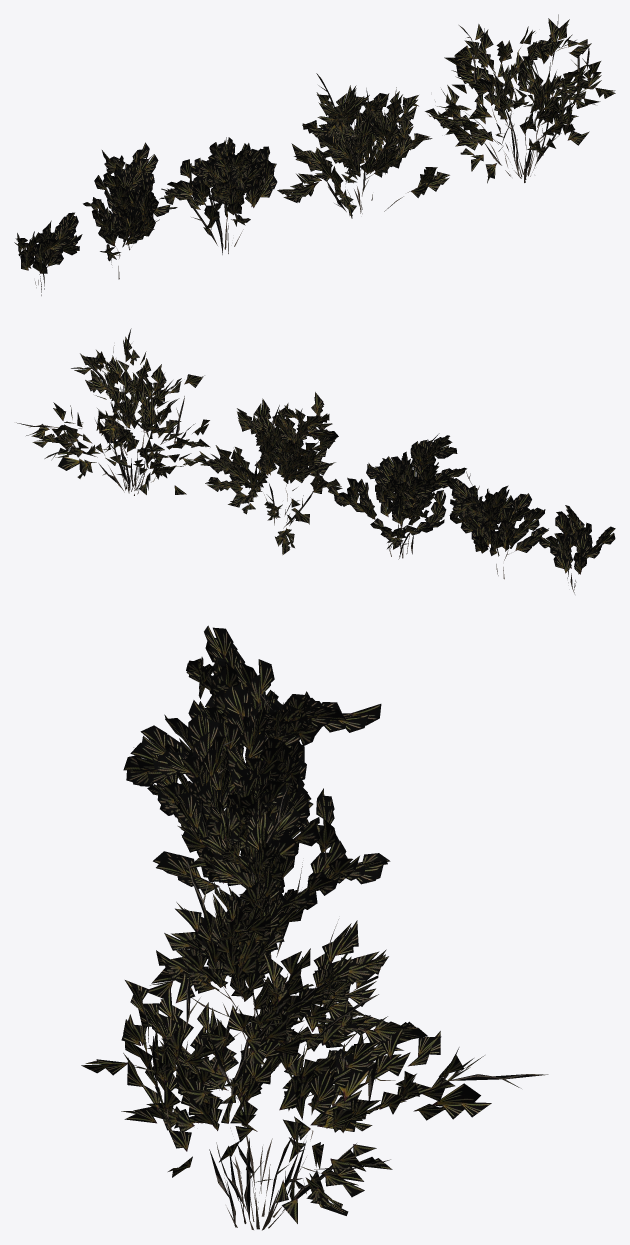
Rendered from bush_lod0.glb.
3 renders of one model, top to bottom at view 1: azimuth 30°, elevation 25°; view 2: azimuth 150°, elevation 25°; view 3: azimuth 270°, elevation 25°, orthographic. The views are drawn at different scales.
Visible parts, largest first — view 1: wild_rooibos_bush_a, wild_rooibos_bush_b, wild_rooibos_bush_c, wild_rooibos_bush_d, wild_rooibos_bush_e; view 2: wild_rooibos_bush_a, wild_rooibos_bush_b, wild_rooibos_bush_c, wild_rooibos_bush_d, wild_rooibos_bush_e; view 3: wild_rooibos_bush_a, wild_rooibos_bush_b, wild_rooibos_bush_c, wild_rooibos_bush_d, wild_rooibos_bush_e.
Part boxes in pixels (x1=…): wild_rooibos_bush_a: x1=402, y1=14, x2=615, y2=183; wild_rooibos_bush_b: x1=277, y1=73, x2=449, y2=218; wild_rooibos_bush_c: x1=159, y1=137, x2=277, y2=254; wild_rooibos_bush_d: x1=83, y1=142, x2=177, y2=279; wild_rooibos_bush_e: x1=14, y1=212, x2=82, y2=295; wild_rooibos_bush_a: x1=16, y1=328, x2=210, y2=495; wild_rooibos_bush_b: x1=200, y1=392, x2=342, y2=554; wild_rooibos_bush_c: x1=328, y1=433, x2=466, y2=559; wild_rooibos_bush_d: x1=446, y1=471, x2=548, y2=579; wild_rooibos_bush_e: x1=539, y1=505, x2=615, y2=593; wild_rooibos_bush_a: x1=81, y1=952, x2=548, y2=1230; wild_rooibos_bush_b: x1=138, y1=782, x2=388, y2=1071; wild_rooibos_bush_c: x1=123, y1=709, x2=390, y2=957; wild_rooibos_bush_d: x1=164, y1=659, x2=381, y2=802; wild_rooibos_bush_e: x1=186, y1=625, x2=278, y2=746.
Size of the model in its own units: 2.27 by 0.533 by 0.8279.
Materials: 2 (2 with a texture image).
